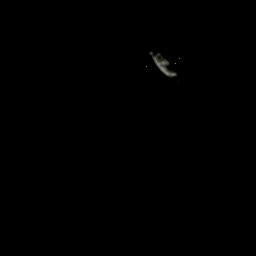boat: (144, 42, 190, 86)
